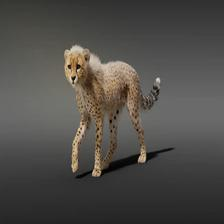Cheetah: (64, 45, 163, 181)
